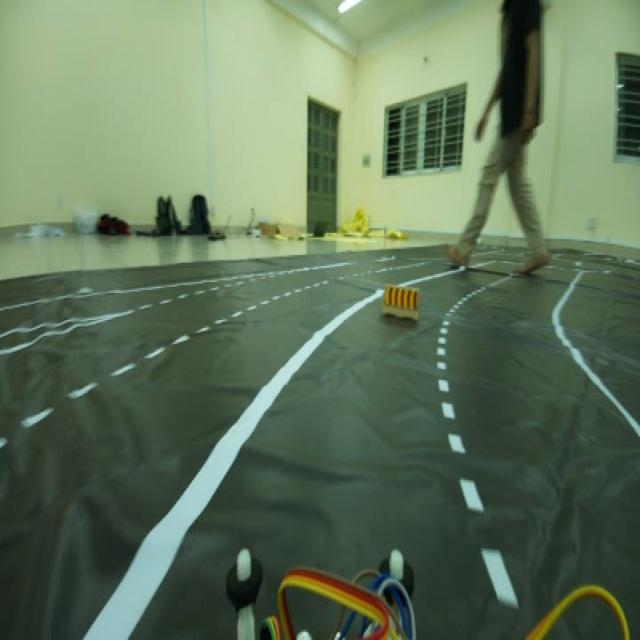roadblock: (377, 280, 421, 322)
